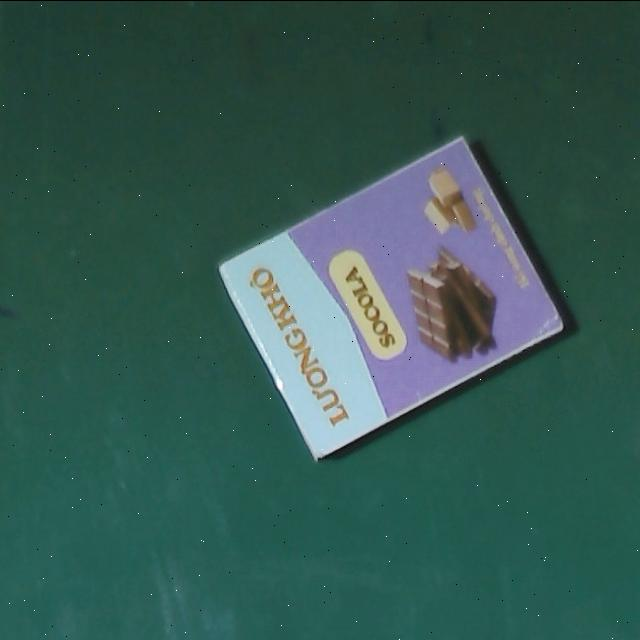socola: (212, 132, 569, 463)
